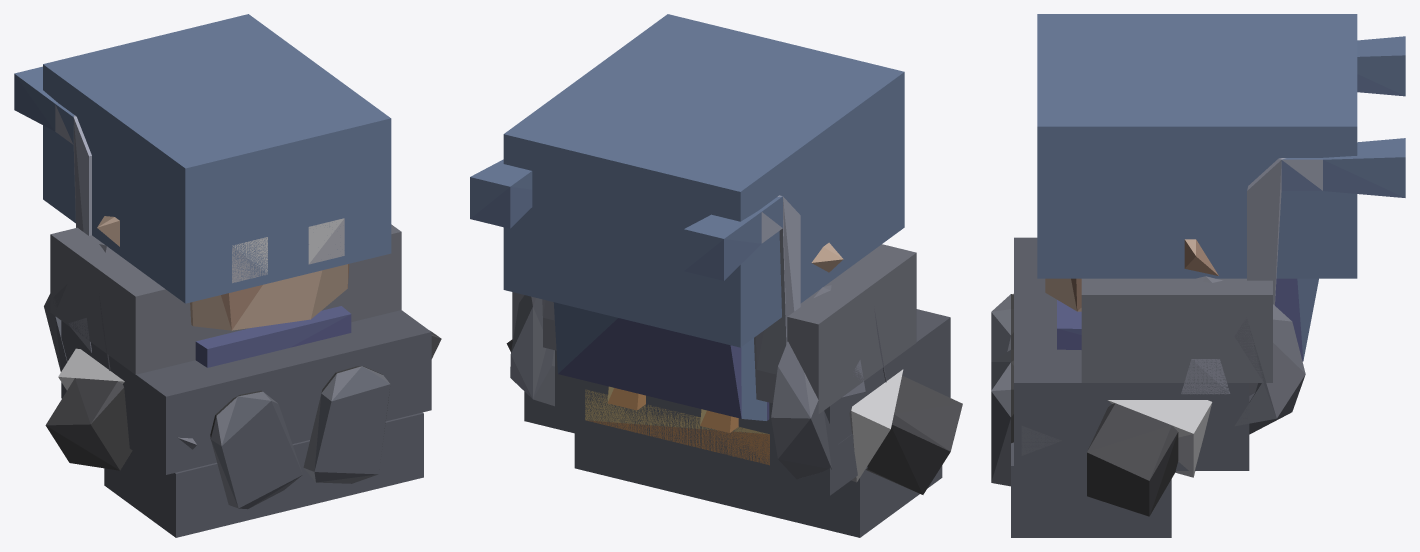
The model's file is person.wheelchair.glb.
3 renders of one model, left to right at view 1: azimuth 30°, elevation 25°; view 2: azimuth 150°, elevation 25°; view 3: azimuth 270°, elevation 25°, orthographic. The views are drawn at different scales.
Visible parts, largest first — view 1: far, near; view 2: far, near; view 3: far, near.
Boxes of the visible parts, bbox=[...] form: far: bbox=[43, 14, 431, 537]; near: bbox=[14, 66, 441, 509]; far: bbox=[503, 14, 950, 537]; near: bbox=[470, 159, 962, 494]; far: bbox=[1011, 14, 1357, 537]; near: bbox=[991, 36, 1405, 516].
Bounding box in the file's own units: 1.82 × 1.61 × 1.51.
